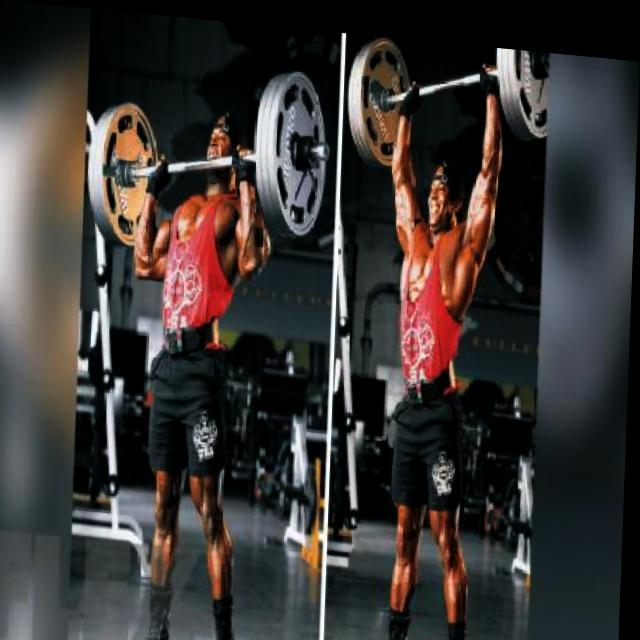barbell: (258, 60, 336, 239)
